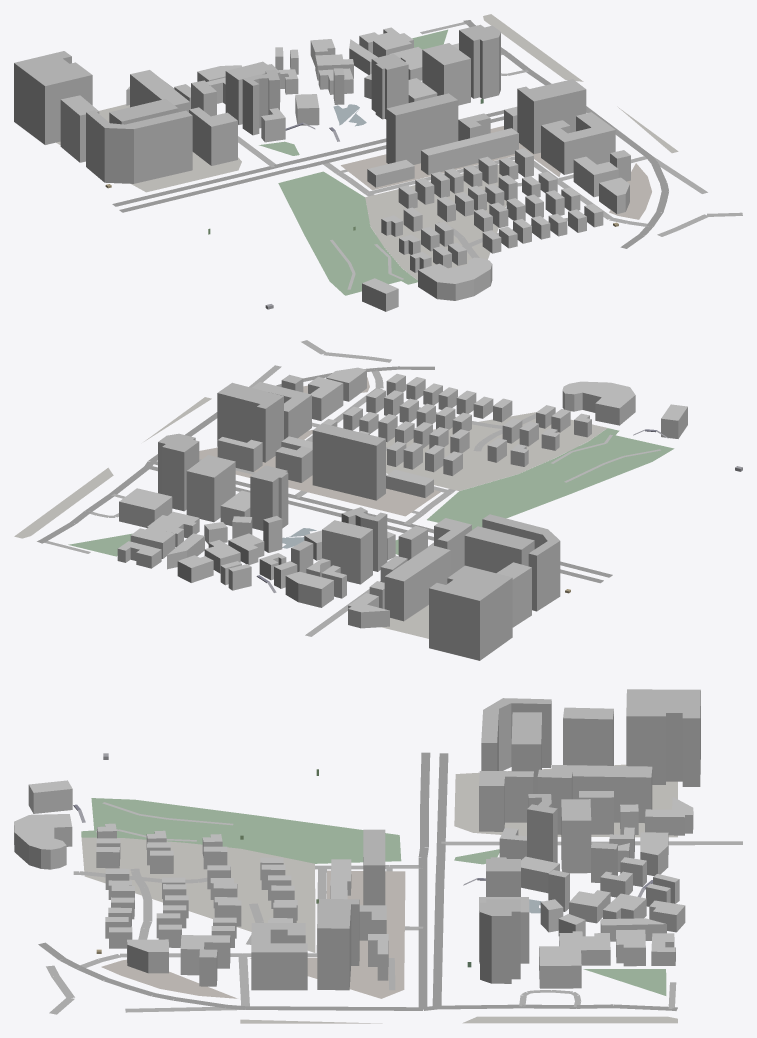
The picture shows the model from 3 angles, top to bottom: view 1: azimuth 30°, elevation 25°; view 2: azimuth 150°, elevation 25°; view 3: azimuth 270°, elevation 25°; orthographic projection. The views are drawn at different scales.
Size of the model in its own units: 510 by 60.59 by 577.
